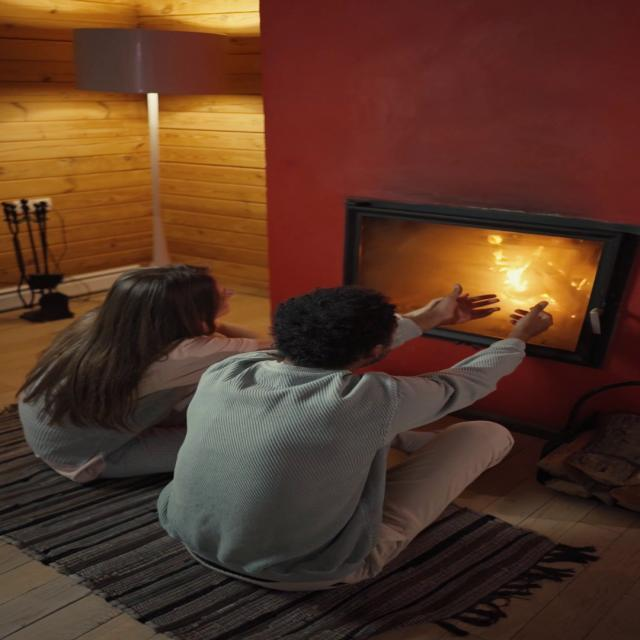Fire: (474, 231, 563, 316)
